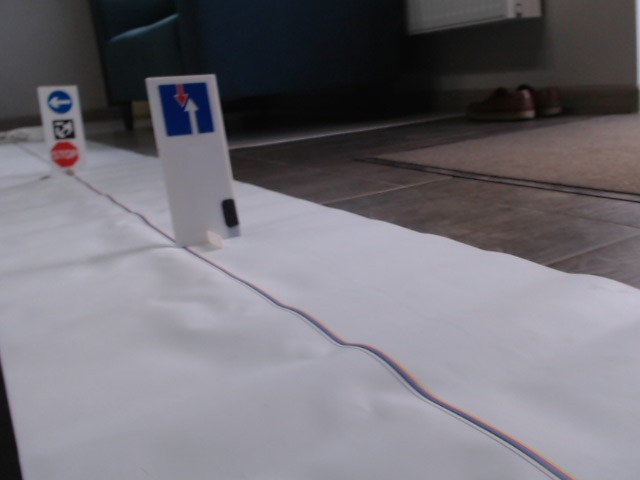Stop: (50, 140, 79, 168)
priority_movement: (156, 83, 218, 137)
